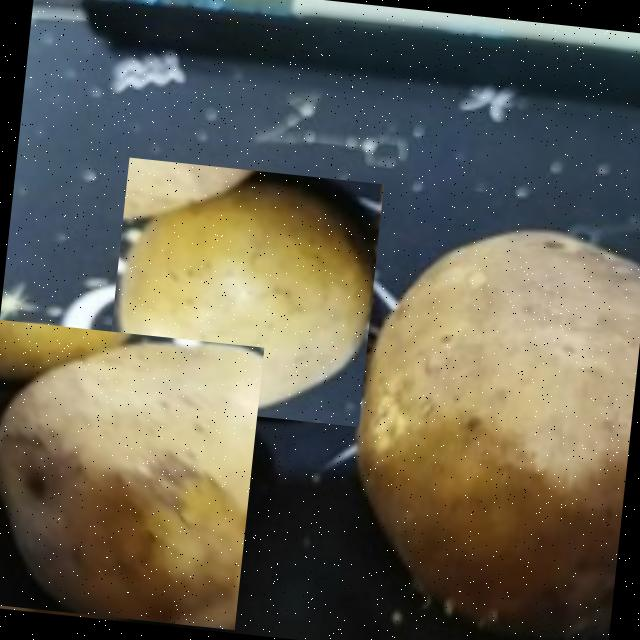Damaged potato: (330, 213, 640, 640), (0, 318, 263, 628)
Potato: (102, 157, 382, 426)
